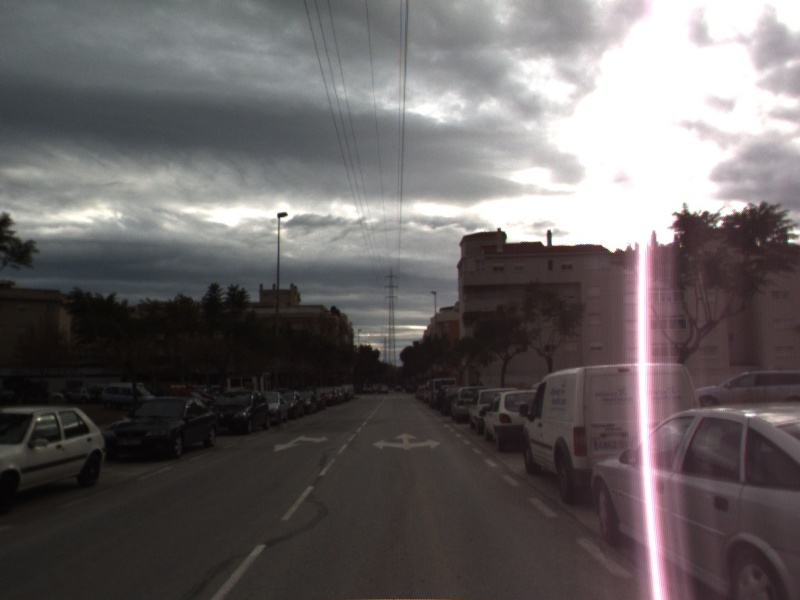STRAIGHT_LEFT_RIGHT: (370, 431, 443, 452)
